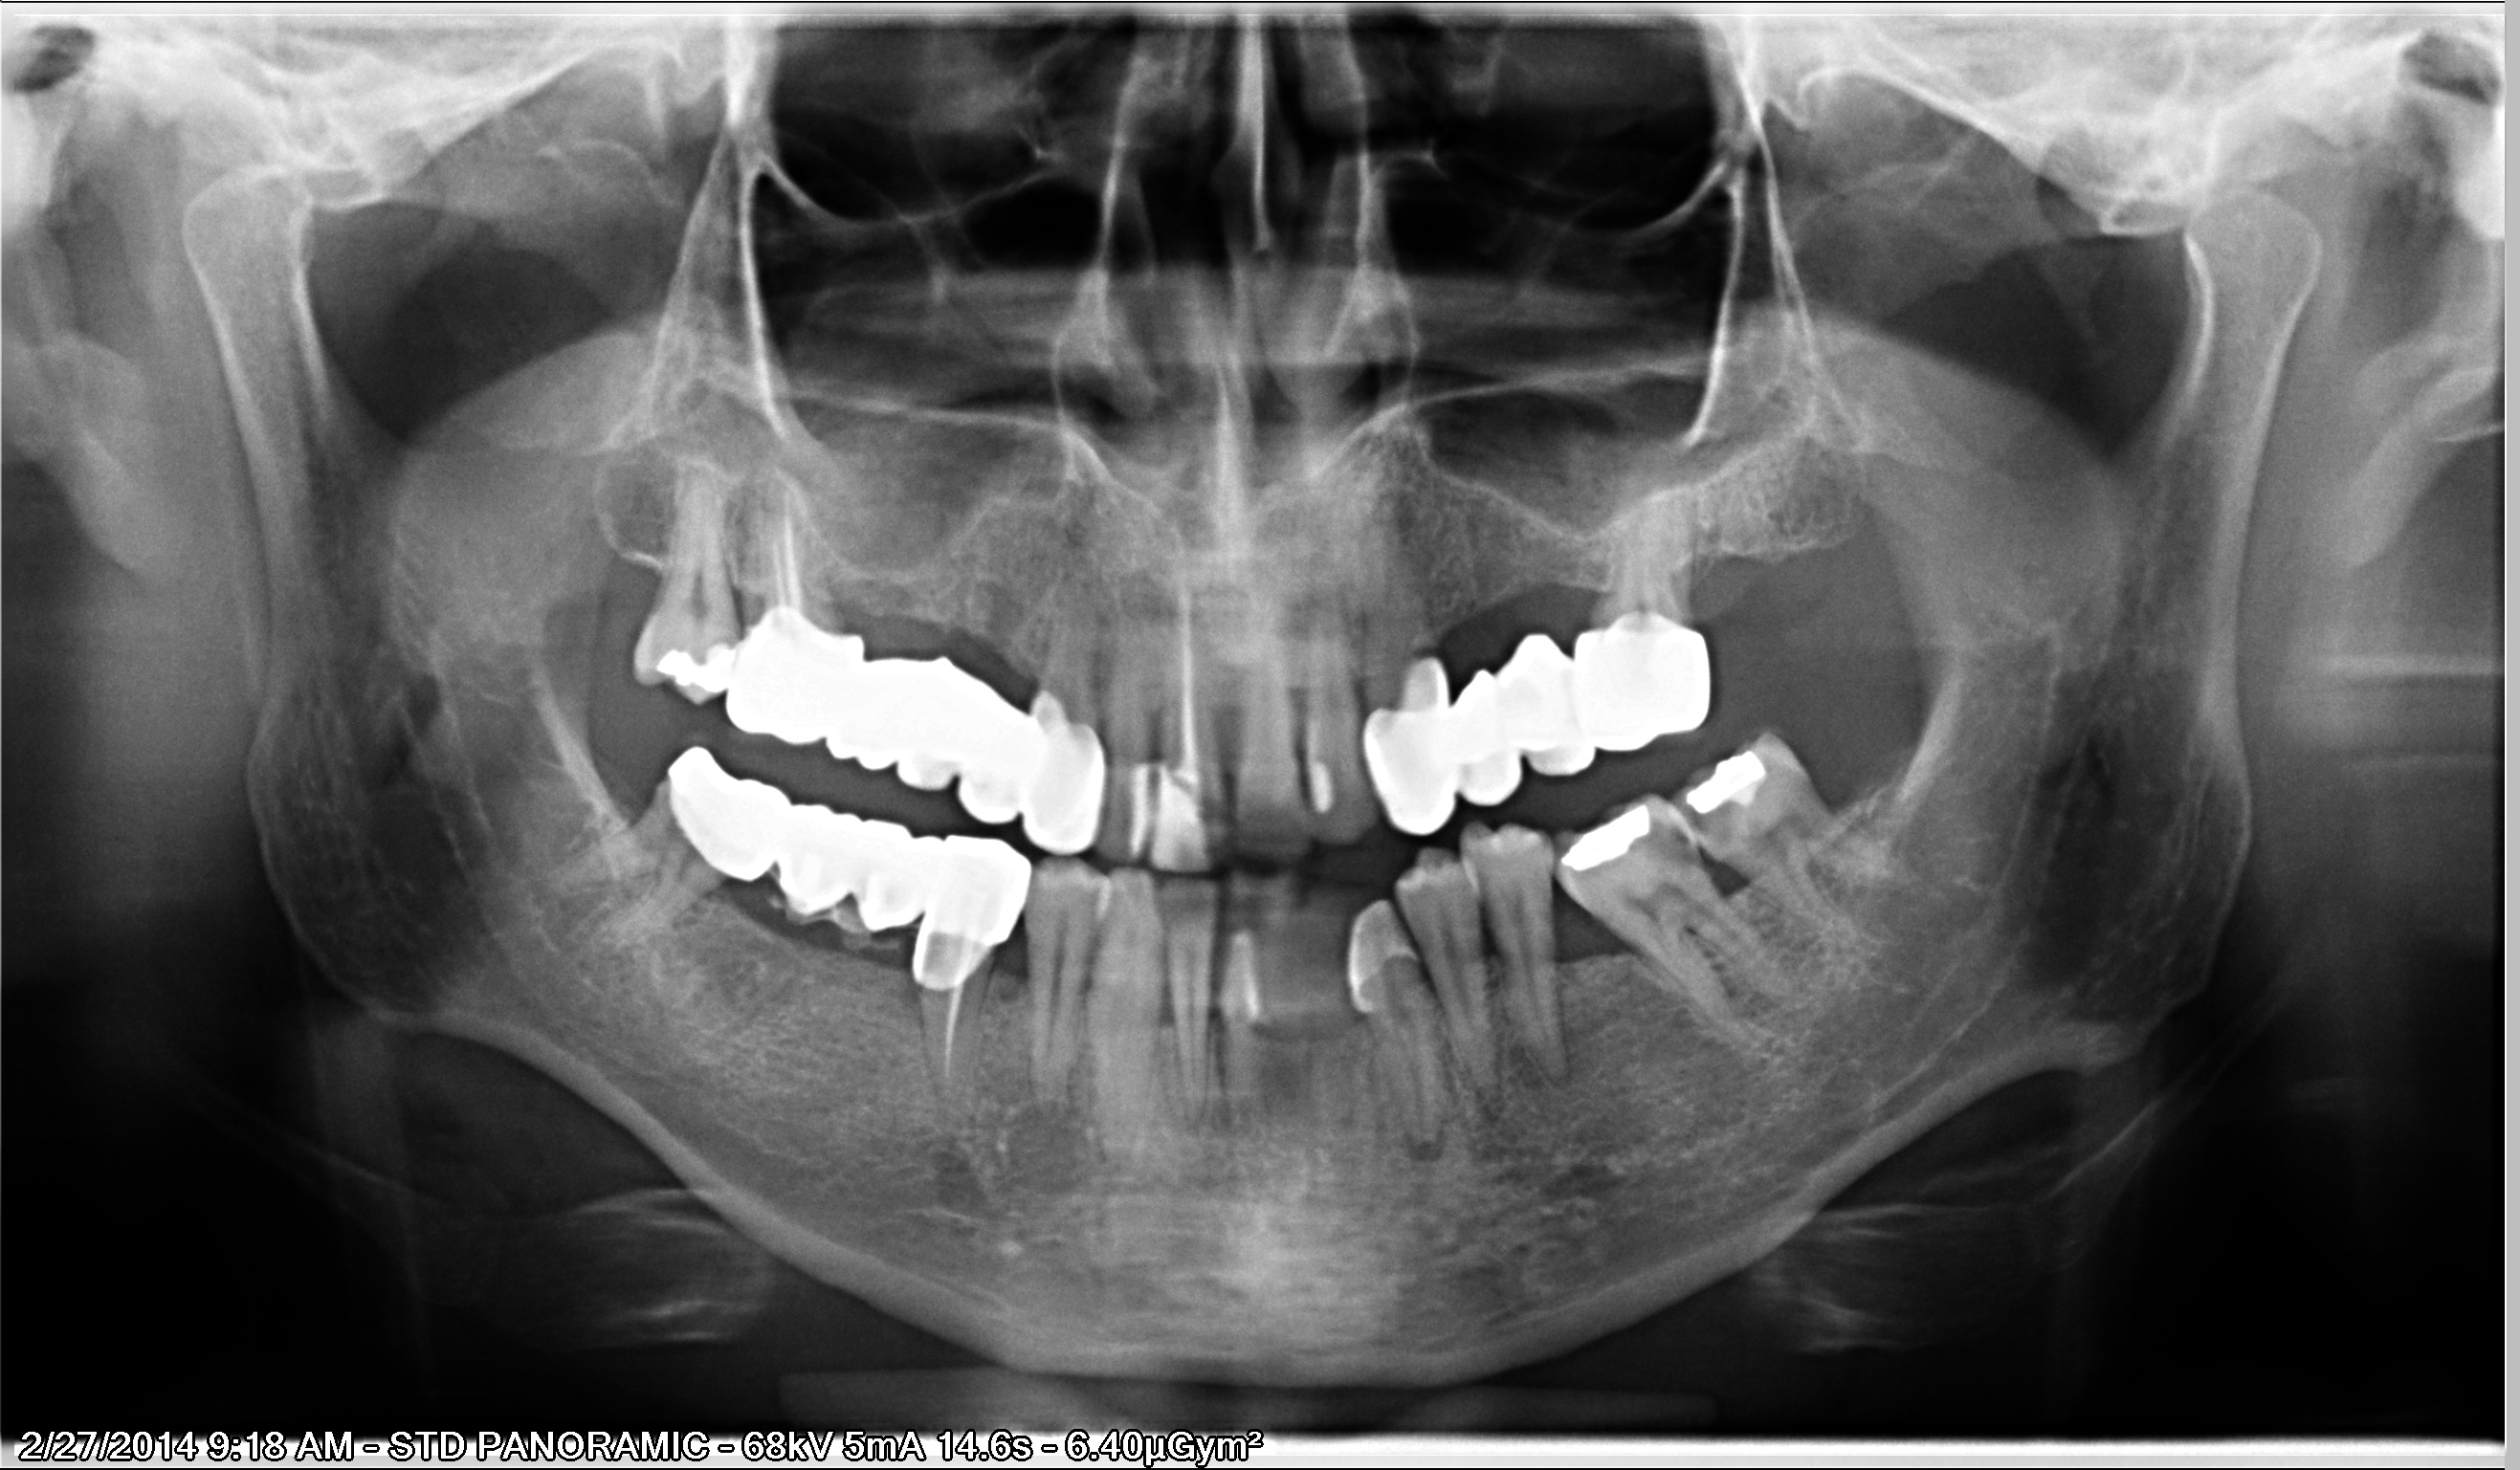API: (1384, 1097, 1461, 1211)
CAR: (1680, 786, 1766, 863), (1629, 794, 1696, 882)
END: (1155, 539, 1209, 772), (742, 457, 821, 612), (924, 982, 980, 1125)
FUR: (1659, 905, 1727, 966)
OBT: (644, 607, 752, 721), (1538, 791, 1661, 887), (1671, 731, 1788, 828), (1143, 759, 1228, 885), (1290, 731, 1353, 831), (1118, 759, 1176, 854)
PRR: (1342, 555, 1759, 864), (700, 609, 1129, 868), (625, 737, 1048, 996)
